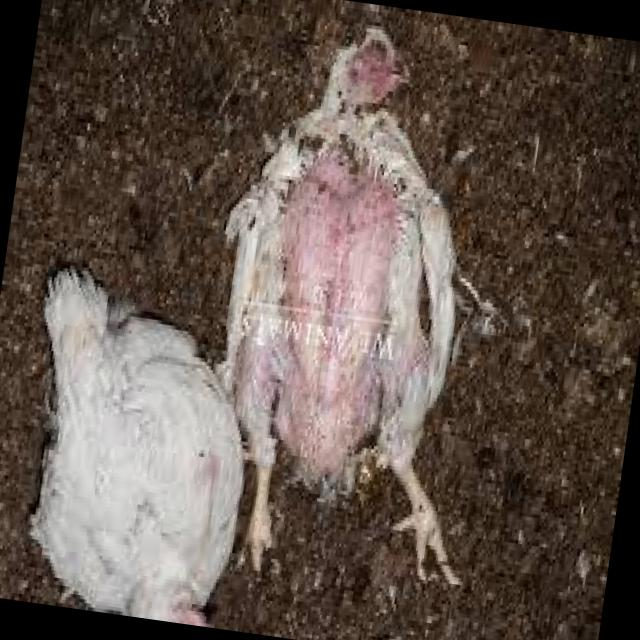dead: (157, 18, 556, 632), (0, 245, 278, 630)
